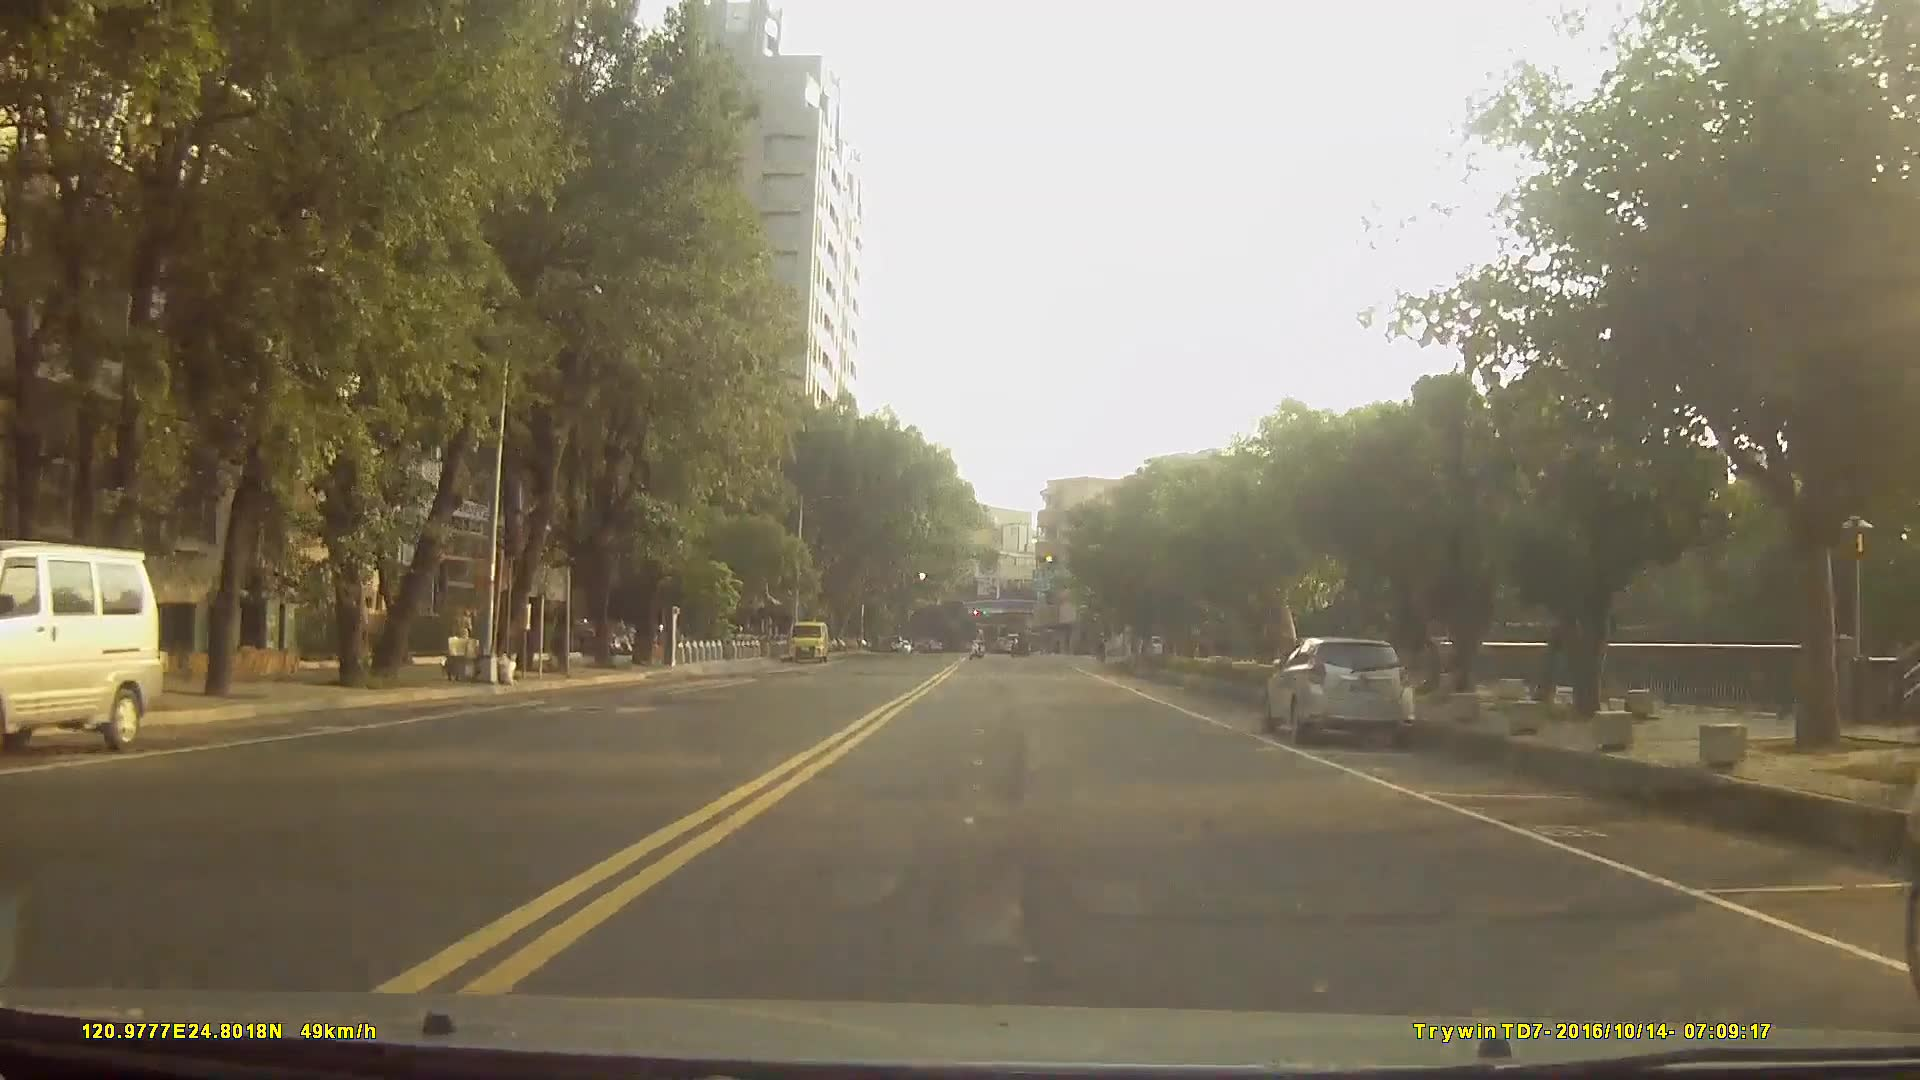rider: (1901, 522, 1920, 997)
vehicle: (0, 538, 165, 763), (1258, 636, 1419, 751), (1001, 633, 1028, 658)
